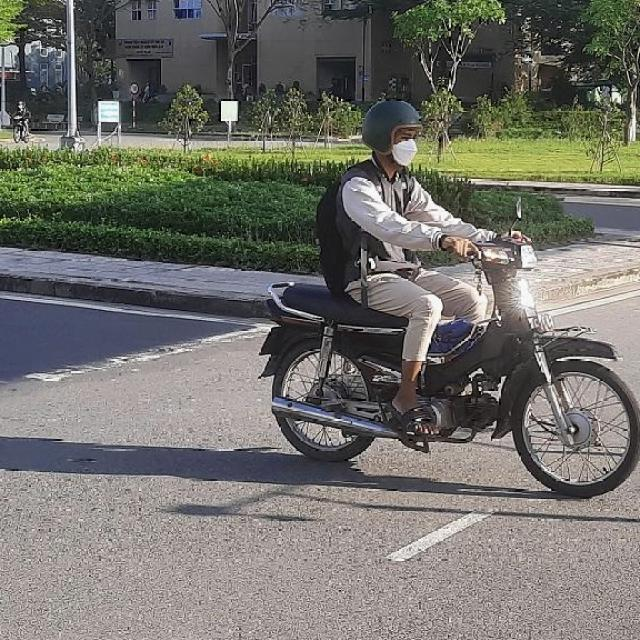Helmet: (357, 96, 427, 164)
